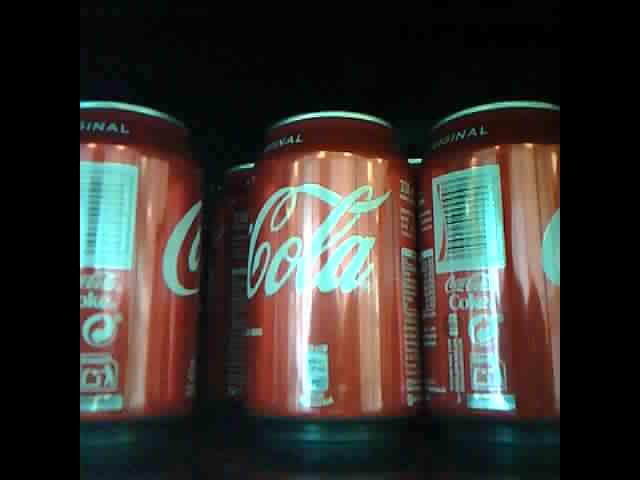coca cola: (240, 111, 421, 426), (423, 99, 558, 433), (79, 96, 209, 426)
